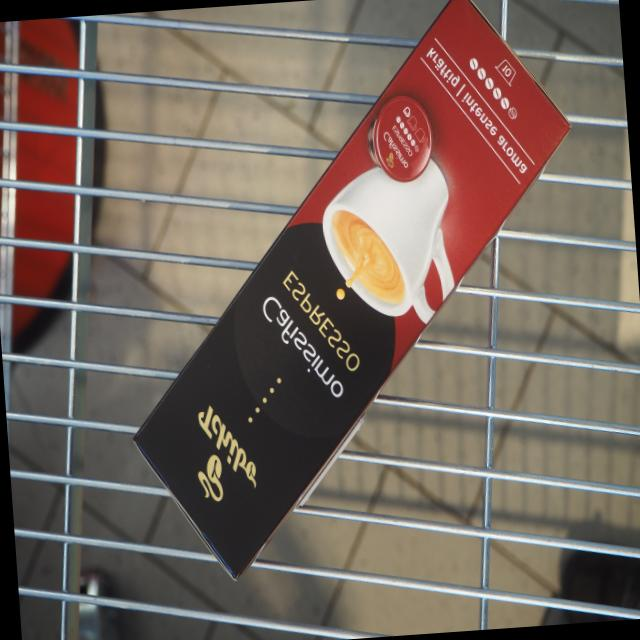Simo Es Kraft: (125, 0, 576, 592)
